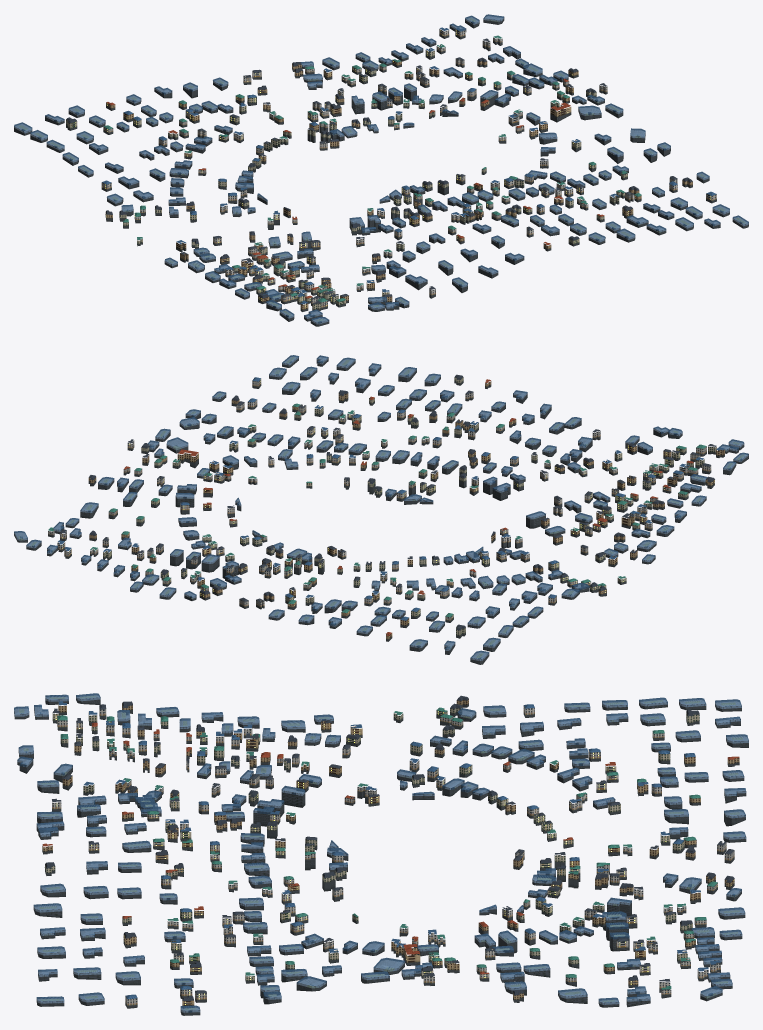
Rendered from osm_buildings_T_E02_N01_Q3.glb.
3 views of the same model, one above another, from view 1: azimuth 30°, elevation 25°; view 2: azimuth 150°, elevation 25°; view 3: azimuth 270°, elevation 25° (orthographic). The views are drawn at different scales.
Visible parts, largest first — view 1: OSM_T_E02_N01_Q3_greenhouse_blend, OSM_T_E02_N01_Q3_foundation, OSM_T_E02_N01_Q3_wall_french_ochre, OSM_T_E02_N01_Q3_wall_cream_stucco, OSM_T_E02_N01_Q3_wall_warm_white, OSM_T_E02_N01_Q3_wall_pastel_sand, OSM_T_E02_N01_Q3_roof_mansard_slate, OSM_T_E02_N01_Q3_roof_mint_metal, OSM_T_E02_N01_Q3_roof_alpine_blue, OSM_T_E02_N01_Q3_roof_mansard_deck, OSM_T_E02_N01_Q3_window_emissive_warm, OSM_T_E02_N01_Q3_roof_terracotta; view 2: OSM_T_E02_N01_Q3_greenhouse_blend, OSM_T_E02_N01_Q3_foundation, OSM_T_E02_N01_Q3_wall_french_ochre, OSM_T_E02_N01_Q3_wall_cream_stucco, OSM_T_E02_N01_Q3_wall_pastel_sand, OSM_T_E02_N01_Q3_wall_warm_white, OSM_T_E02_N01_Q3_roof_mansard_slate, OSM_T_E02_N01_Q3_roof_mint_metal, OSM_T_E02_N01_Q3_roof_mansard_deck, OSM_T_E02_N01_Q3_roof_alpine_blue, OSM_T_E02_N01_Q3_window_emissive_warm, OSM_T_E02_N01_Q3_roof_terracotta; view 3: OSM_T_E02_N01_Q3_greenhouse_blend, OSM_T_E02_N01_Q3_foundation, OSM_T_E02_N01_Q3_wall_cream_stucco, OSM_T_E02_N01_Q3_wall_french_ochre, OSM_T_E02_N01_Q3_wall_pastel_sand, OSM_T_E02_N01_Q3_roof_mansard_slate, OSM_T_E02_N01_Q3_wall_warm_white, OSM_T_E02_N01_Q3_roof_mansard_deck, OSM_T_E02_N01_Q3_roof_mint_metal, OSM_T_E02_N01_Q3_roof_alpine_blue, OSM_T_E02_N01_Q3_window_emissive_warm, OSM_T_E02_N01_Q3_trim_cornice (+1 smaller).
Boxes of the visible parts, left/top/right/bottom form: OSM_T_E02_N01_Q3_greenhouse_blend: left=14, top=14, right=748, bottom=324; OSM_T_E02_N01_Q3_foundation: left=14, top=18, right=748, bottom=326; OSM_T_E02_N01_Q3_wall_french_ochre: left=105, top=60, right=692, bottom=309; OSM_T_E02_N01_Q3_wall_cream_stucco: left=66, top=49, right=627, bottom=309; OSM_T_E02_N01_Q3_wall_warm_white: left=101, top=41, right=677, bottom=307; OSM_T_E02_N01_Q3_wall_pastel_sand: left=103, top=29, right=716, bottom=297; OSM_T_E02_N01_Q3_roof_mansard_slate: left=66, top=38, right=692, bottom=303; OSM_T_E02_N01_Q3_roof_mint_metal: left=103, top=35, right=641, bottom=302; OSM_T_E02_N01_Q3_roof_alpine_blue: left=102, top=27, right=716, bottom=304; OSM_T_E02_N01_Q3_roof_mansard_deck: left=14, top=17, right=745, bottom=323; OSM_T_E02_N01_Q3_window_emissive_warm: left=19, top=18, right=744, bottom=320; OSM_T_E02_N01_Q3_roof_terracotta: left=106, top=78, right=604, bottom=298; OSM_T_E02_N01_Q3_greenhouse_blend: left=14, top=355, right=748, bottom=660; OSM_T_E02_N01_Q3_foundation: left=14, top=358, right=748, bottom=664; OSM_T_E02_N01_Q3_wall_french_ochre: left=88, top=381, right=724, bottom=639; OSM_T_E02_N01_Q3_wall_cream_stucco: left=103, top=377, right=716, bottom=635; OSM_T_E02_N01_Q3_wall_pastel_sand: left=48, top=379, right=689, bottom=620; OSM_T_E02_N01_Q3_wall_warm_white: left=60, top=402, right=711, bottom=607; OSM_T_E02_N01_Q3_roof_mansard_slate: left=60, top=375, right=716, bottom=630; OSM_T_E02_N01_Q3_roof_mint_metal: left=48, top=403, right=706, bottom=617; OSM_T_E02_N01_Q3_roof_mansard_deck: left=20, top=357, right=748, bottom=660; OSM_T_E02_N01_Q3_roof_alpine_blue: left=58, top=377, right=724, bottom=620; OSM_T_E02_N01_Q3_window_emissive_warm: left=19, top=357, right=743, bottom=657; OSM_T_E02_N01_Q3_roof_terracotta: left=124, top=379, right=693, bottom=636; OSM_T_E02_N01_Q3_greenhouse_blend: left=14, top=693, right=748, bottom=1012; OSM_T_E02_N01_Q3_foundation: left=14, top=698, right=748, bottom=1015; OSM_T_E02_N01_Q3_wall_cream_stucco: left=45, top=707, right=699, bottom=980; OSM_T_E02_N01_Q3_wall_french_ochre: left=42, top=699, right=739, bottom=1005; OSM_T_E02_N01_Q3_wall_pastel_sand: left=88, top=716, right=734, bottom=1005; OSM_T_E02_N01_Q3_roof_mansard_slate: left=45, top=697, right=734, bottom=1000; OSM_T_E02_N01_Q3_wall_warm_white: left=52, top=705, right=726, bottom=999; OSM_T_E02_N01_Q3_roof_mansard_deck: left=20, top=695, right=748, bottom=1012; OSM_T_E02_N01_Q3_roof_mint_metal: left=57, top=707, right=717, bottom=989; OSM_T_E02_N01_Q3_roof_alpine_blue: left=58, top=701, right=720, bottom=999; OSM_T_E02_N01_Q3_window_emissive_warm: left=19, top=696, right=742, bottom=1009; OSM_T_E02_N01_Q3_trim_cornice: left=46, top=700, right=739, bottom=1001.
Bounding box in the file's own units: 989 × 79.49 × 991.
Materials: 16 (16 with a texture image).
